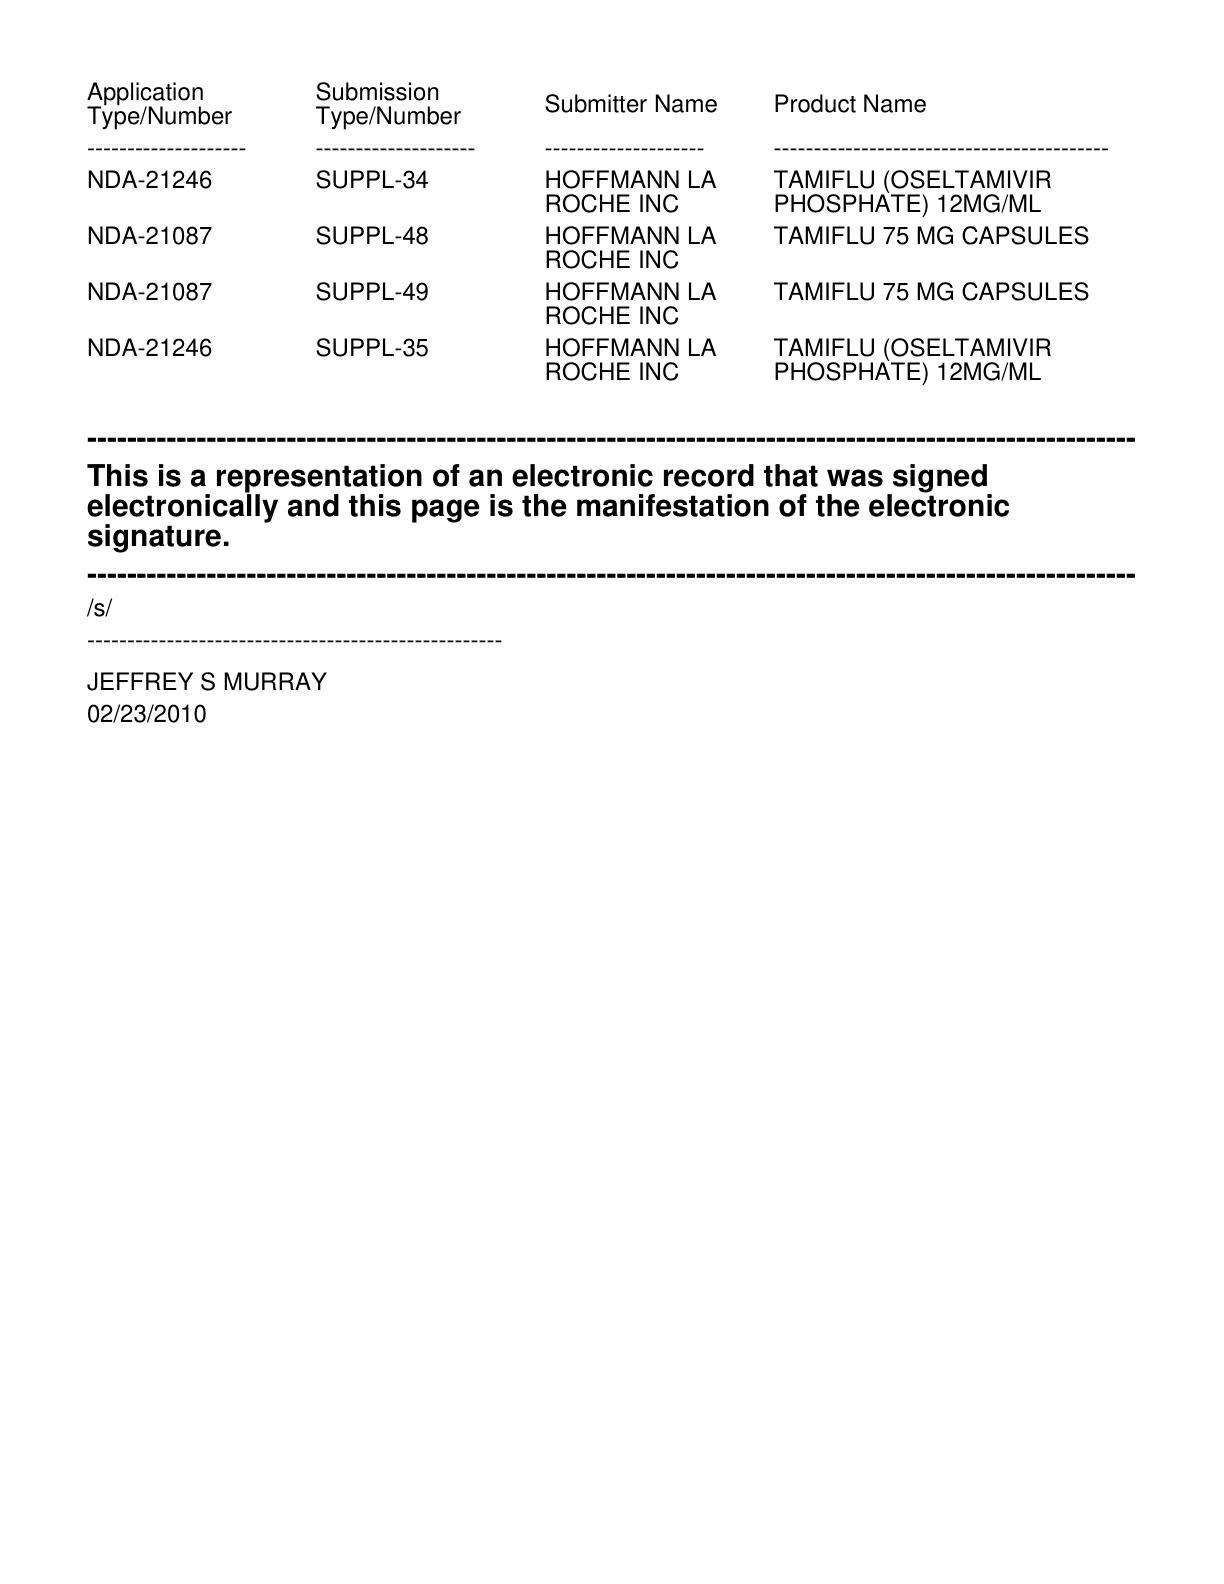nolines: (82, 80, 1108, 384)
